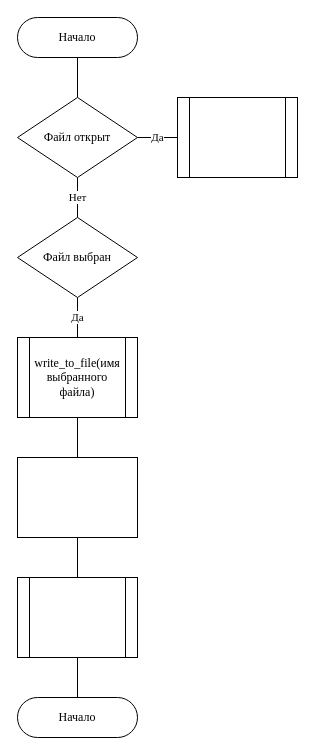
The diagram is 315 pixels wide and 755 high, and some of its shapes have lost their labels. Here are the shapes that lost their labels. From the top down, the centre of each, then its label:
At (237,137): "write_to_file(имя файла)".
At (77,497): "Имя открытого файла = имя выбранного файла".
At (77,617): "file_info(имя выбранного файла)".
